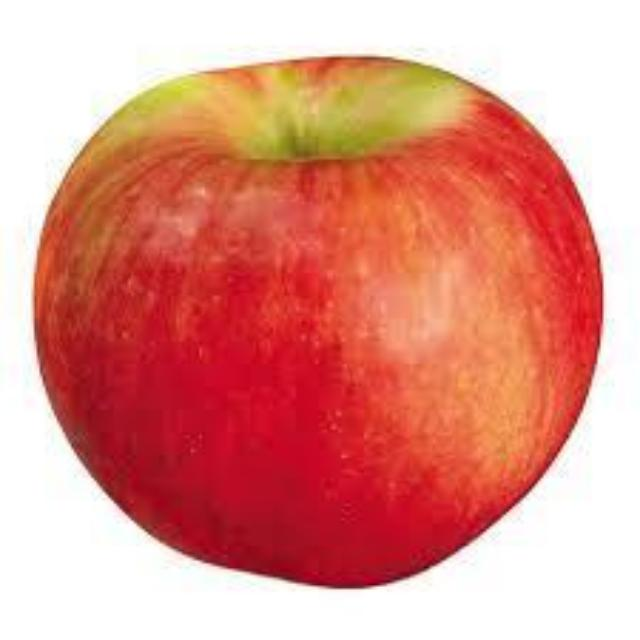apple: (37, 57, 597, 580)
